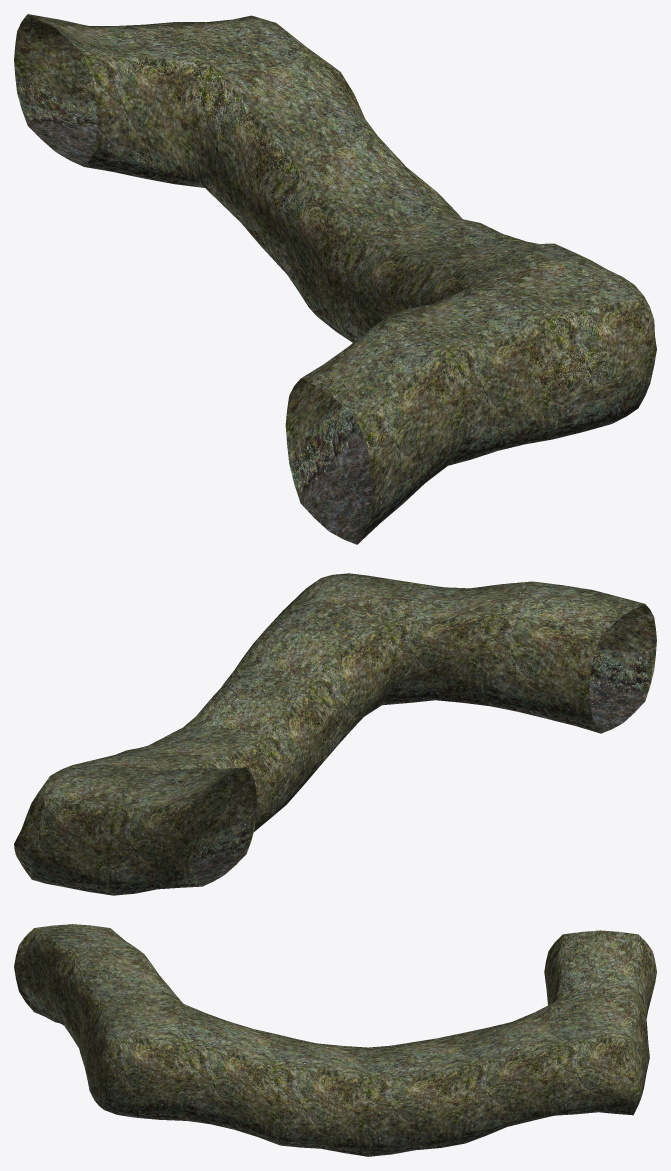
The model's file is thm_all_cave_flatland_s03_damprock_r14_r14.fbx.
3 views of the same model, one above another, from view 1: azimuth 30°, elevation 25°; view 2: azimuth 150°, elevation 25°; view 3: azimuth 270°, elevation 25° (orthographic). The views are drawn at different scales.
Visible parts, largest first — view 1: mesh_node; view 2: mesh_node; view 3: mesh_node.
Part boxes in pixels (x1,y1,x2,y2): mesh_node: (14,14,656,544); mesh_node: (14,573,656,895); mesh_node: (14,924,656,1156).
Bounding box in the file's own units: 25.32 × 15.04 × 55.57.
